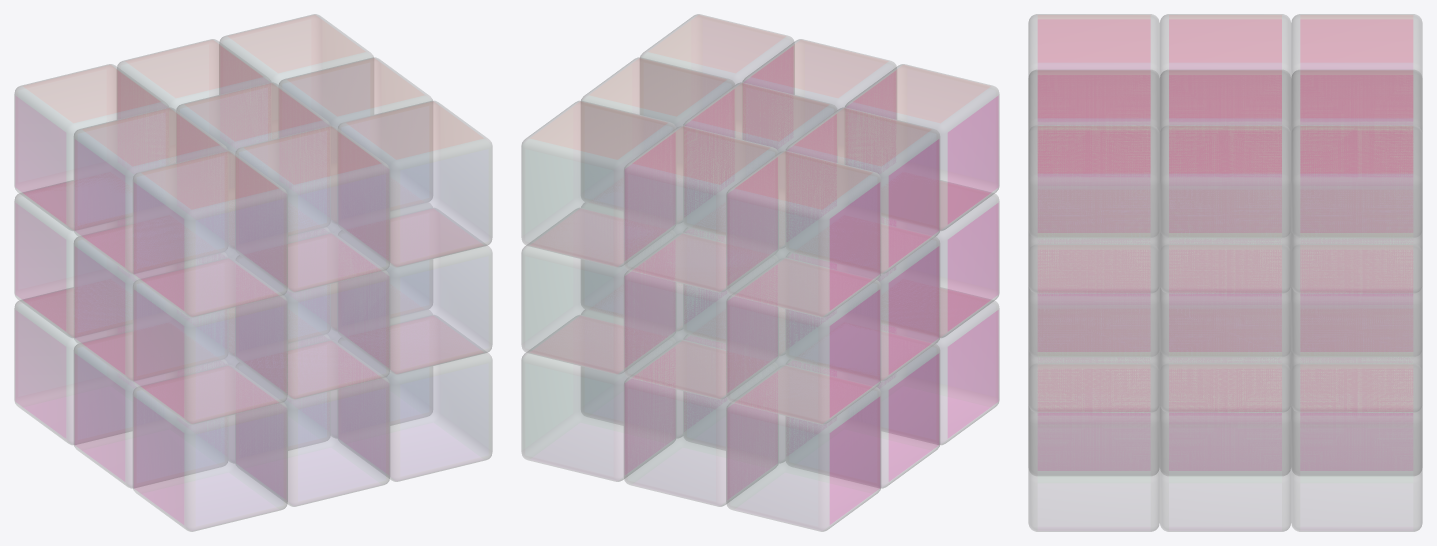
The model's file is rcube_01.gltf.
3 views of the same model, side by side, from view 1: azimuth 30°, elevation 25°; view 2: azimuth 150°, elevation 25°; view 3: azimuth 270°, elevation 25° (orthographic). The views are drawn at different scales.
Visible parts, largest first — view 1: rcube; view 2: rcube; view 3: rcube.
Part boxes in pixels (x1=…): rcube: x1=14, y1=14, x2=492, y2=531; rcube: x1=521, y1=14, x2=999, y2=531; rcube: x1=1028, y1=14, x2=1422, y2=531.
Size of the model in its own units: 3 by 3 by 3.
